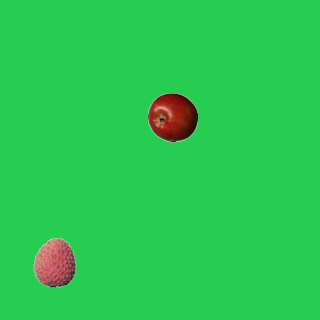Apple Braeburn: (147, 92, 197, 142)
Lychee: (29, 237, 79, 287)
